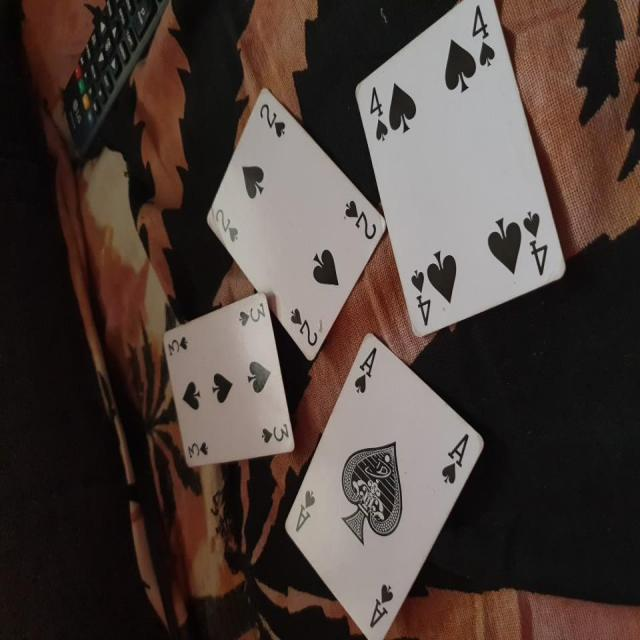2 Spades: (200, 84, 395, 362)
3 Spades: (159, 296, 299, 468)
4 Spades: (357, 1, 562, 331)
A Spades: (281, 333, 487, 640)
